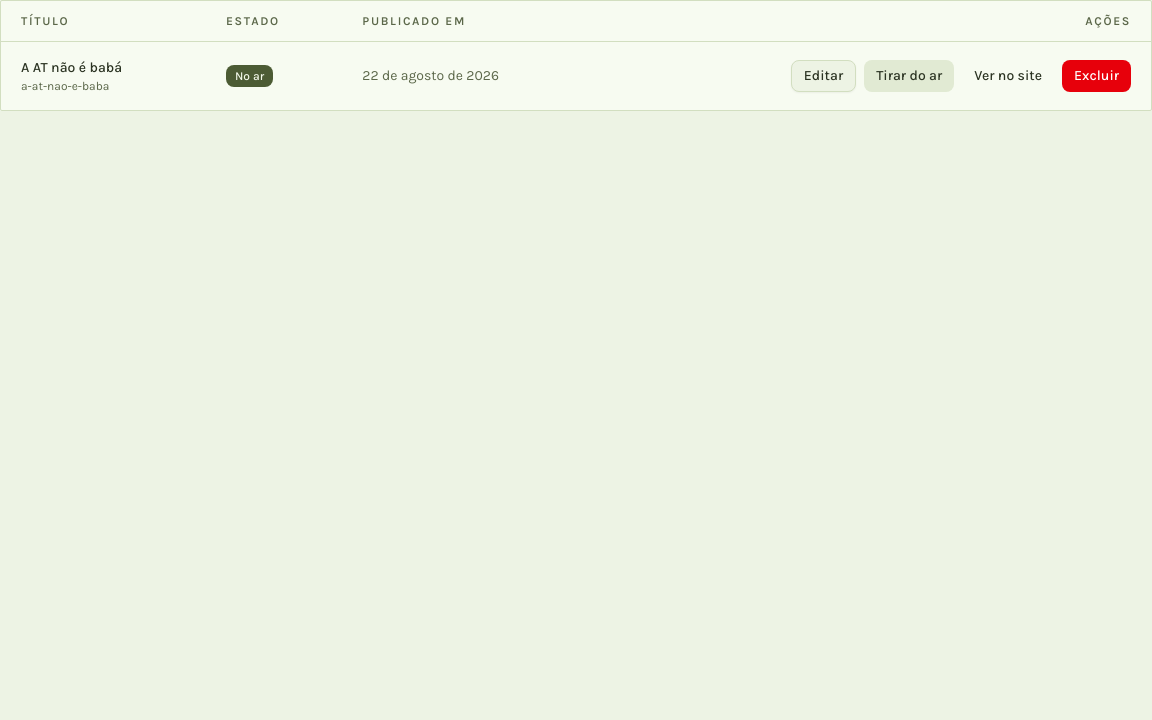
Test: PublicacoesTable › não exclui ao acionar o botão: só abre a confirmação
The width and height of the screenshot is (1152, 720).
Click the button "Excluir" at coordinates (1096, 76), box [1062,60,1131,92]
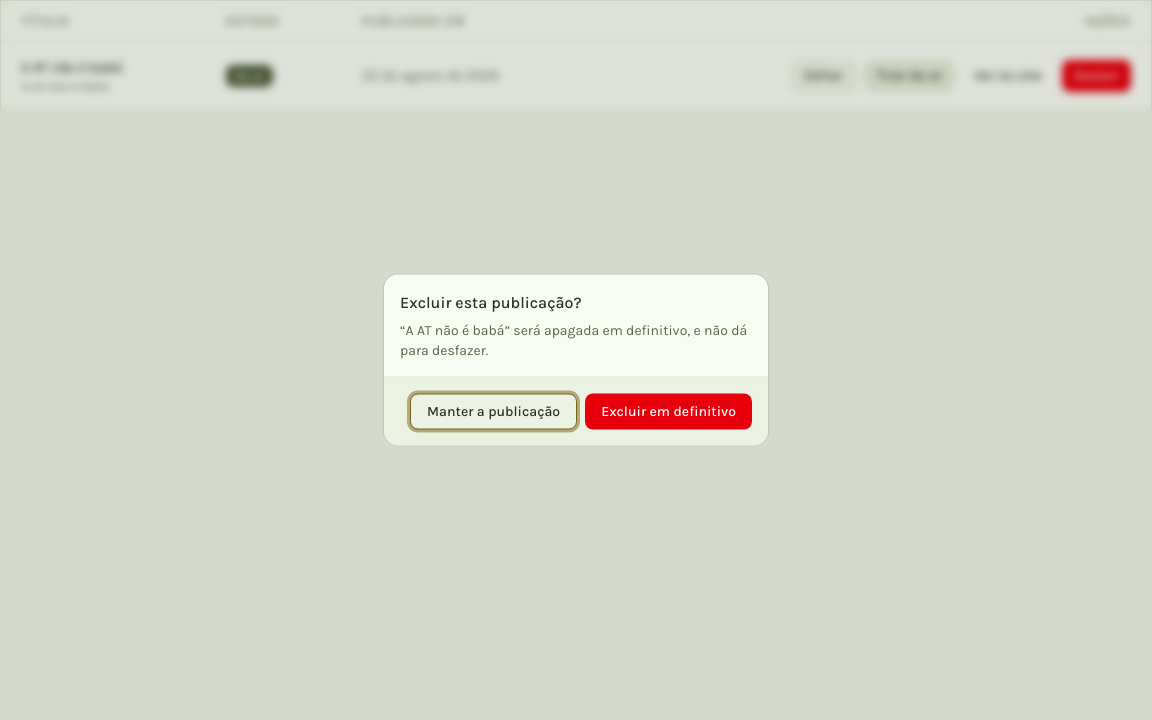
Now the dialog shows "Excluir esta publicação?", box [400,292,582,312]
